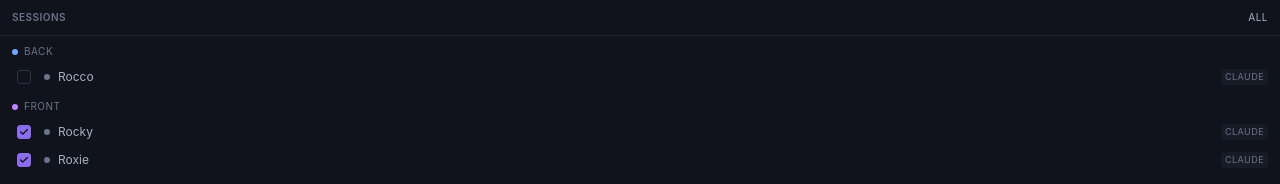
the All/None button › counts who is selected, not how many
Click the button "All" at (1258, 18), box [1248,10,1268,25]
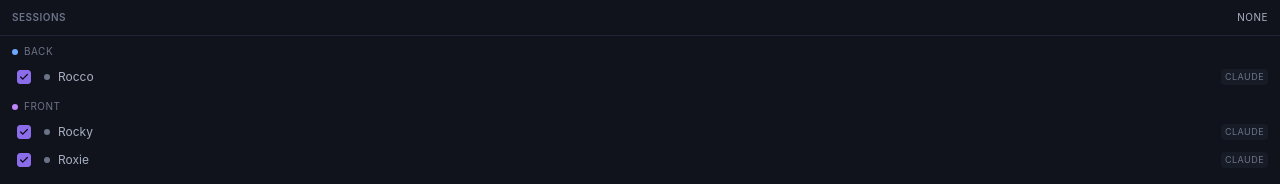
Check: the button "None" is shown, box [1237,10,1268,25]
